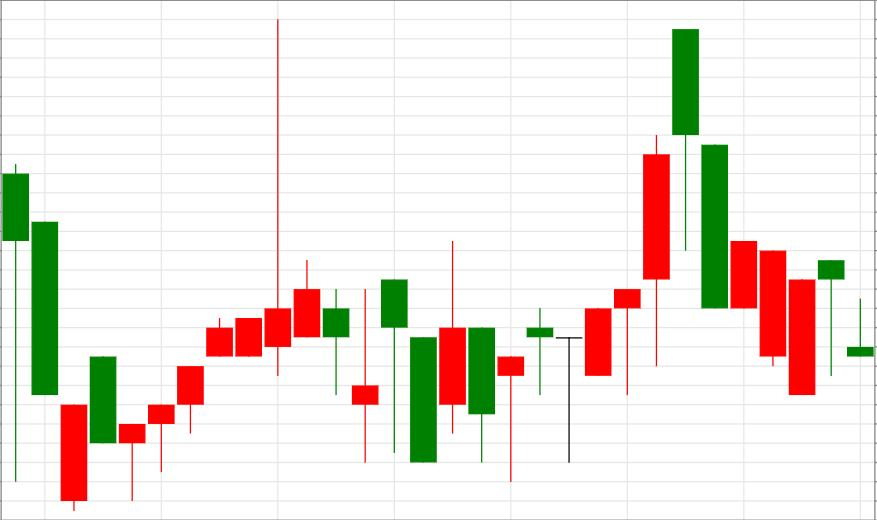shooting_star_fall: (119, 21, 292, 501)
